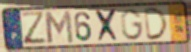6: (73, 11, 94, 43)
D: (143, 6, 170, 42)
G: (120, 8, 145, 42)
M: (43, 10, 76, 45)
X: (94, 8, 122, 43)
Z: (19, 11, 49, 47)
